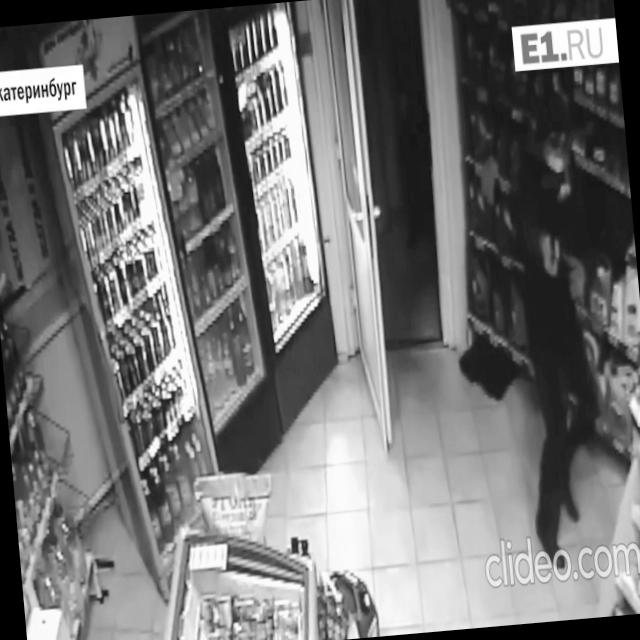gun: (546, 221, 560, 270)
person with a gun: (499, 89, 613, 572)
